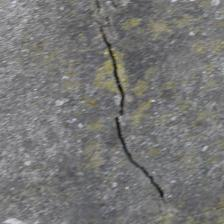Crack: (113, 120, 167, 197), (98, 26, 132, 115)
